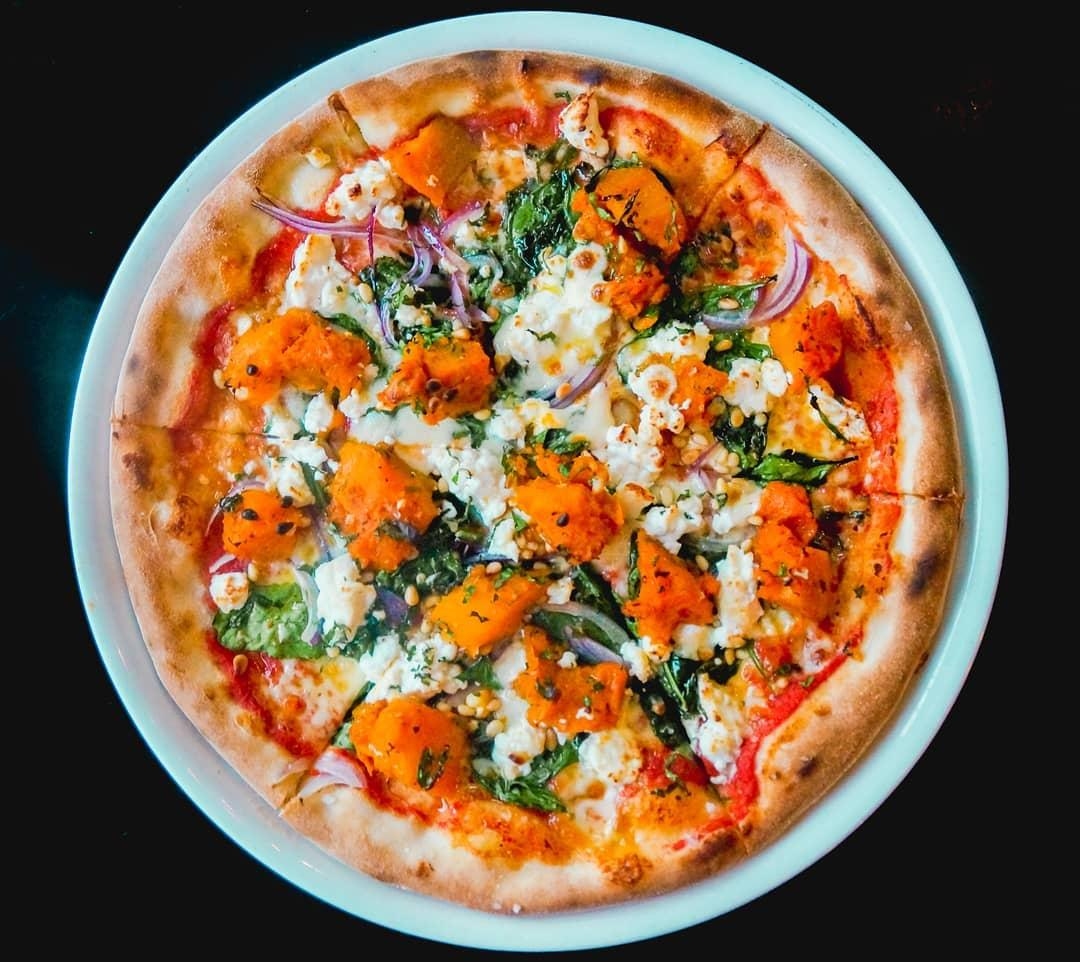Basil: (533, 557, 686, 743), (504, 162, 582, 290), (220, 586, 392, 644), (390, 501, 485, 595), (466, 757, 567, 818), (730, 440, 837, 487)
Onion: (701, 248, 807, 332), (422, 221, 487, 330), (548, 312, 620, 410), (268, 216, 414, 239)
Pizza: (118, 48, 959, 920)
